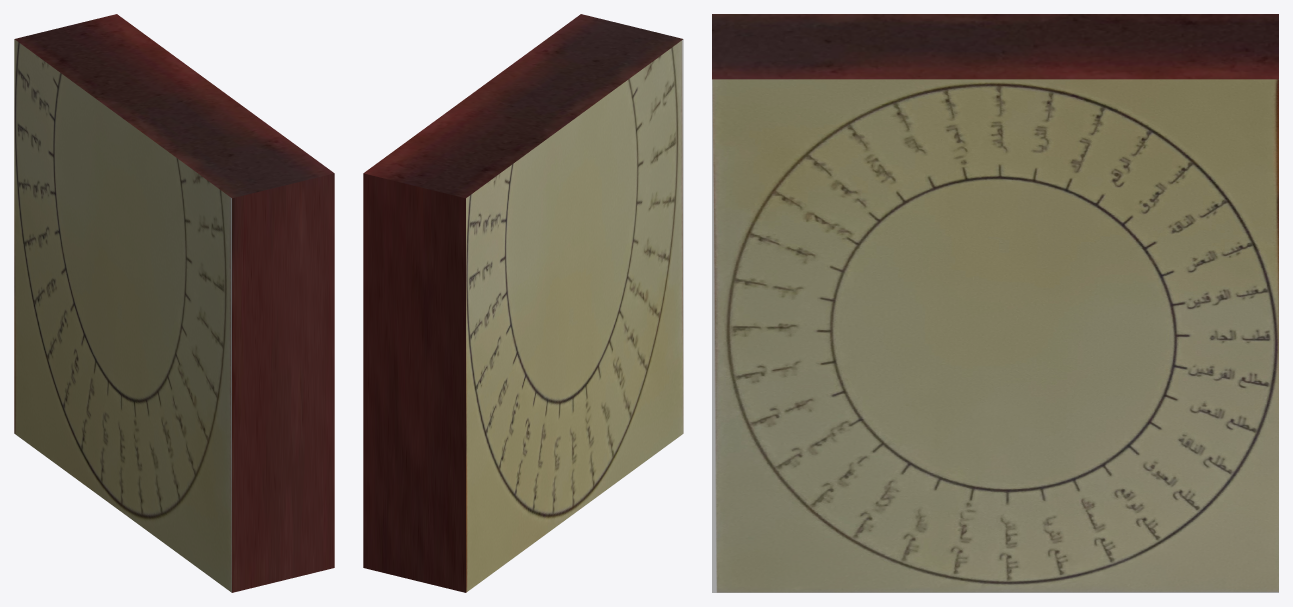
File: kitap2.glb
3 views of the same model, side by side, from view 1: azimuth 30°, elevation 25°; view 2: azimuth 150°, elevation 25°; view 3: azimuth 270°, elevation 25° (orthographic). The views are drawn at different scales.
Visible parts, largest first — view 1: Cube; view 2: Cube; view 3: Cube.
Part boxes in pixels (x1=…): Cube: x1=14, y1=14, x2=334, y2=592; Cube: x1=363, y1=14, x2=683, y2=592; Cube: x1=712, y1=14, x2=1278, y2=592.
Size of the model in its own units: 0.0175 by 0.0641 by 0.0641.
2 materials, 2 textured.
